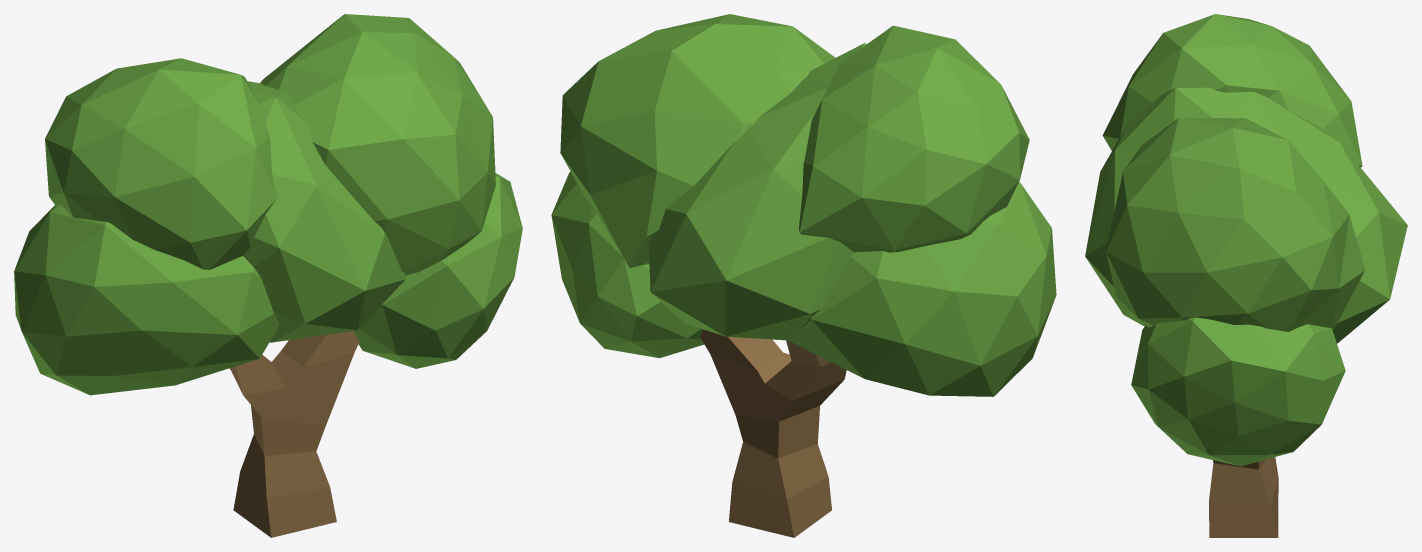
Rendered from forest-oak-a.glb.
3 renders of one model, left to right at view 1: azimuth 30°, elevation 25°; view 2: azimuth 150°, elevation 25°; view 3: azimuth 270°, elevation 25°, orthographic. The views are drawn at different scales.
Parts seen in each view (by area): view 1: OakTree1; view 2: OakTree1; view 3: OakTree1.
Part boxes in pixels (left/top/right/bottom): OakTree1: left=14, top=14, right=522, bottom=537; OakTree1: left=551, top=14, right=1056, bottom=537; OakTree1: left=1085, top=14, right=1407, bottom=537.
Size of the model in its own units: 9.76 by 9.59 by 6.28.
